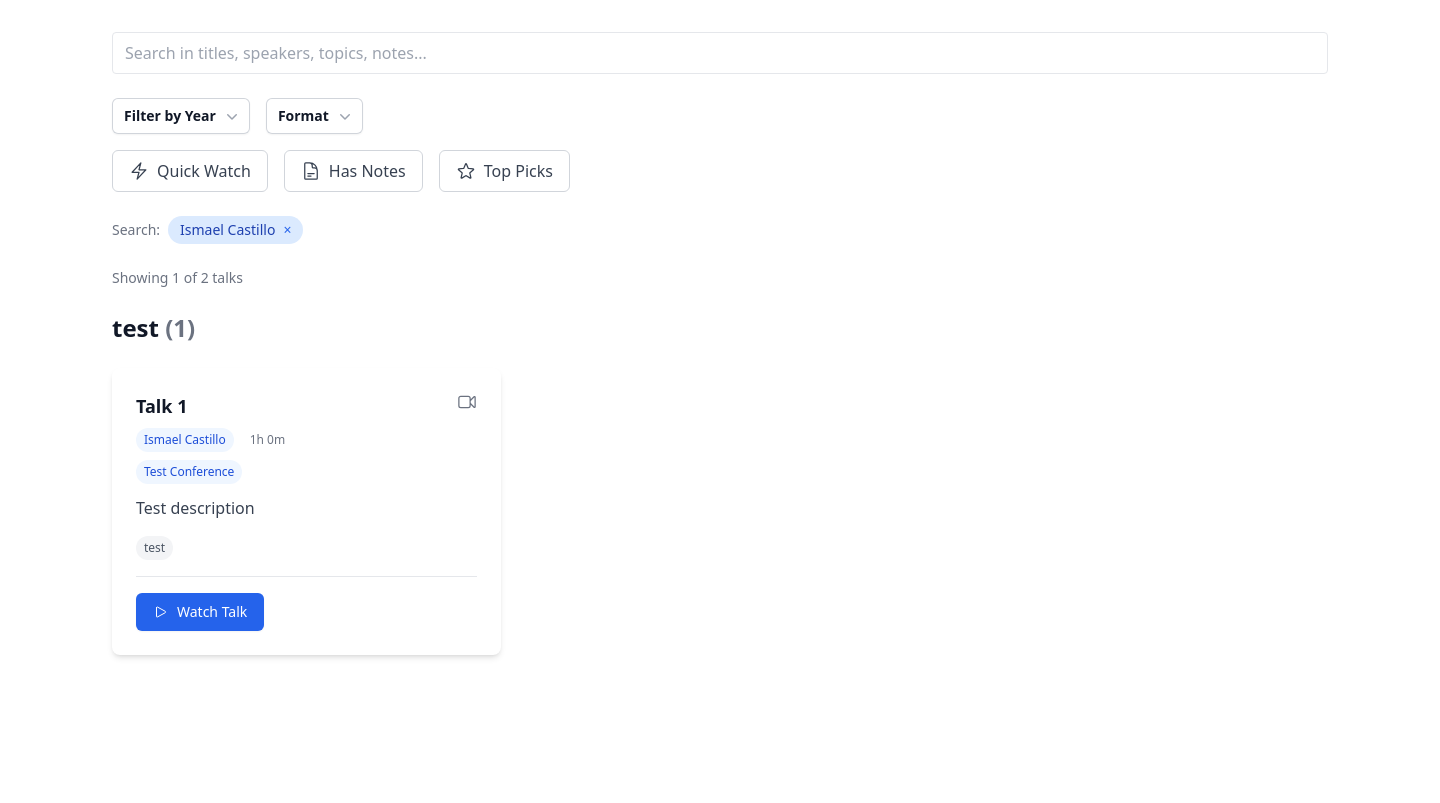
it: TalksList Integration › Search Functionality › removes the query filter and restores the full list when the search chip is clicked
Click the button with aria-label "remove search filter".
click(236, 230)  # box [168,216,303,244]
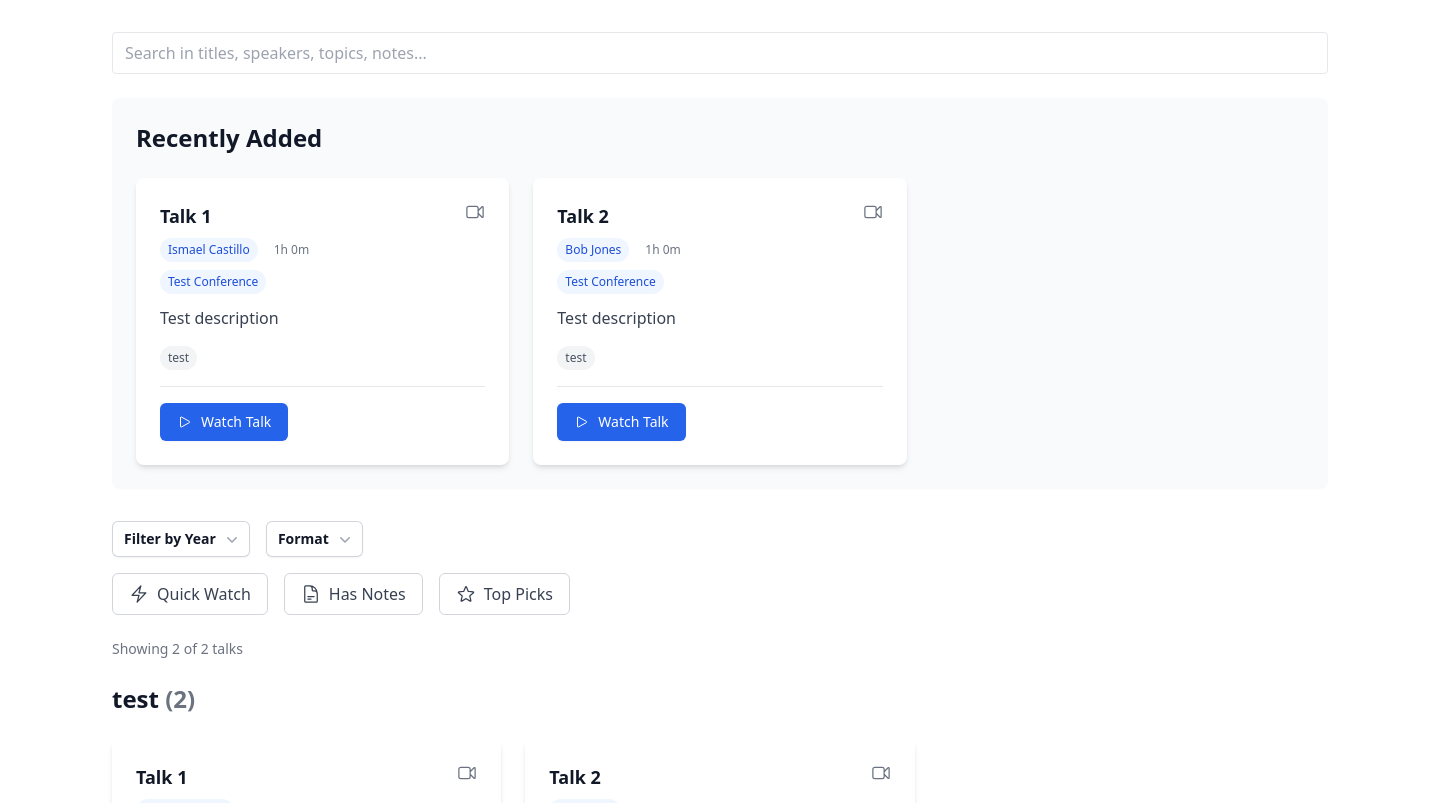
Result: the text "Search:" is gone
